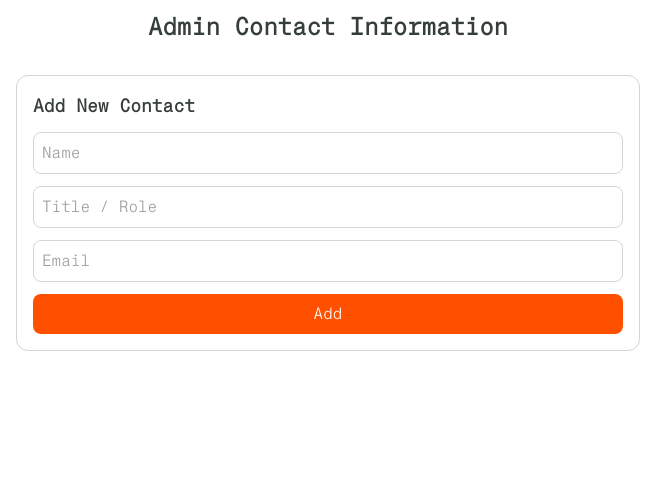
Test case: ContactPage › allows admin to add a new contact
This screenshot has width=657, height=494.
Type "New Admin" into the field with placeholder "Name". click: (328,153)
box: [33,132,623,174]
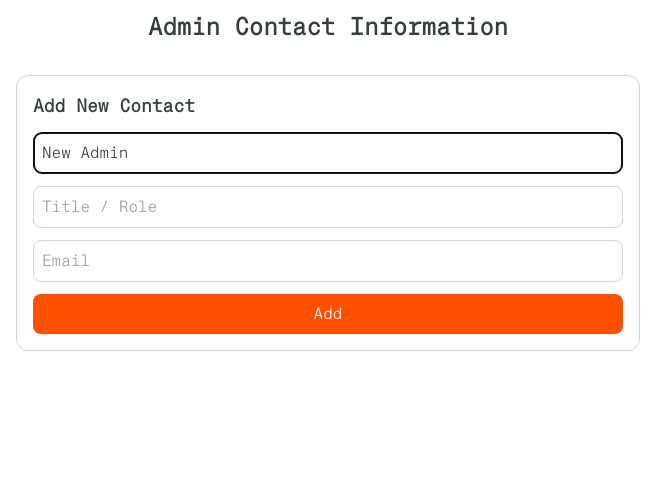
Type "Support" into the field with placeholder "Title / Role". click: (328,207)
box: [33,186,623,228]
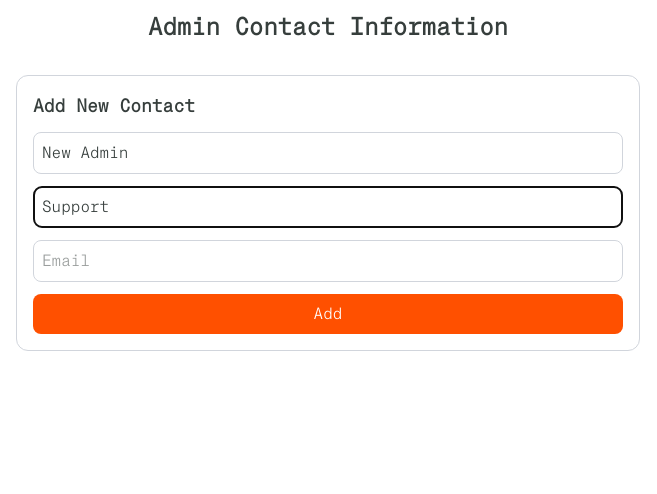
Type "new@admin.com" into the field with placeholder "Email". click: (328,261)
box: [33,240,623,282]
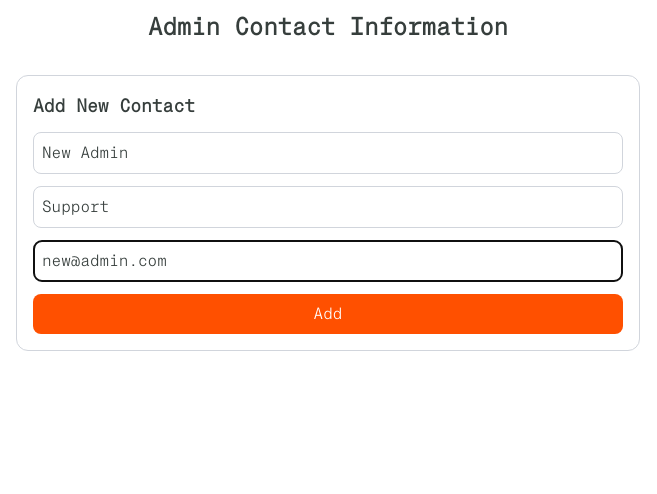
Click the button "Add". click: (328,314)
box: [33,294,623,334]
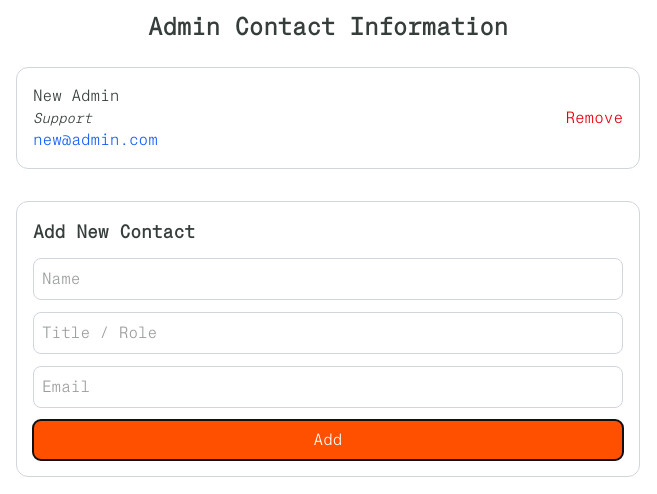
Result: the text "New Admin" is shown at [33,86,119,105]
